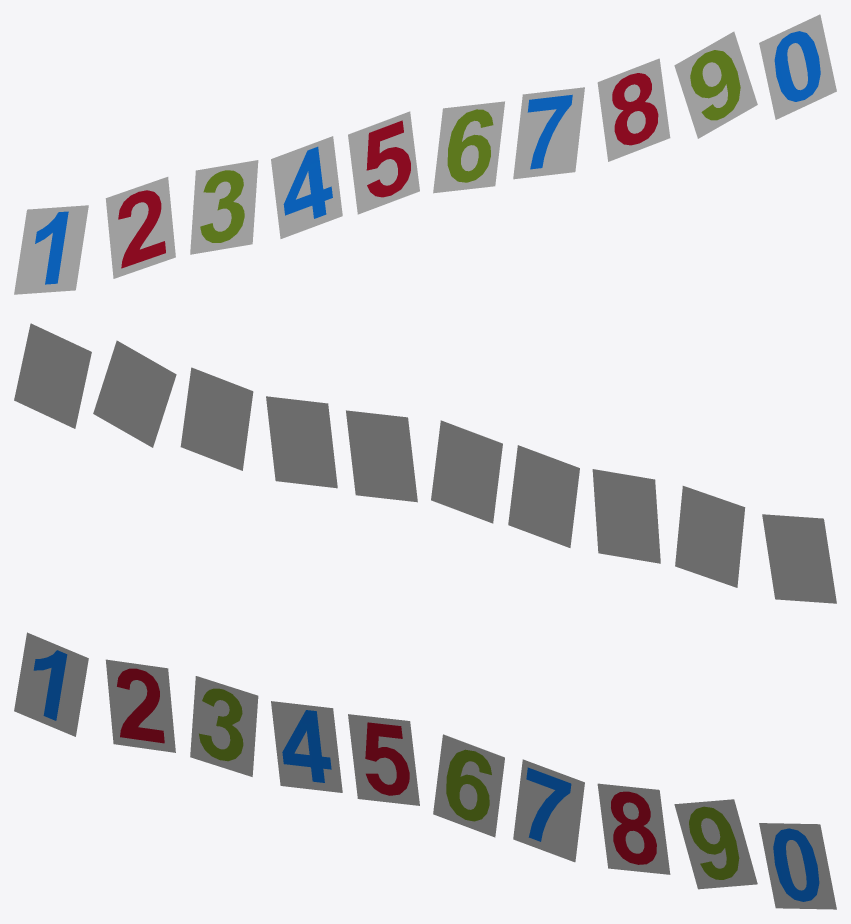
The model's file is Numbers.fbx.
The picture shows the model from 3 angles, top to bottom: view 1: azimuth 30°, elevation 25°; view 2: azimuth 150°, elevation 25°; view 3: azimuth 330°, elevation 25°; orthographic projection.
Visible parts, largest first — view 1: Plane.001; view 2: Plane.001; view 3: Plane.001.
Part boxes in pixels (<box>): Plane.001: <box>14,14,836,294</box>; Plane.001: <box>14,323,836,603</box>; Plane.001: <box>14,632,836,909</box>.
Bounding box in the file's own units: 401 × 47.49 × 0.5745.
